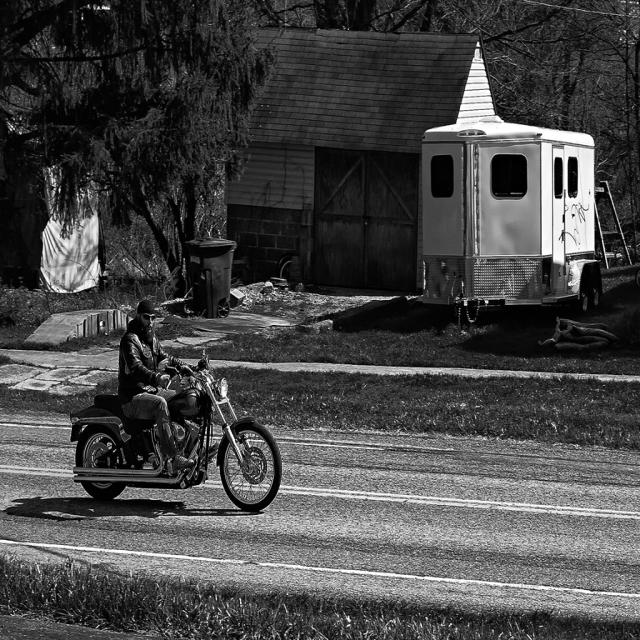Motorbikes: (66, 362, 282, 516)
